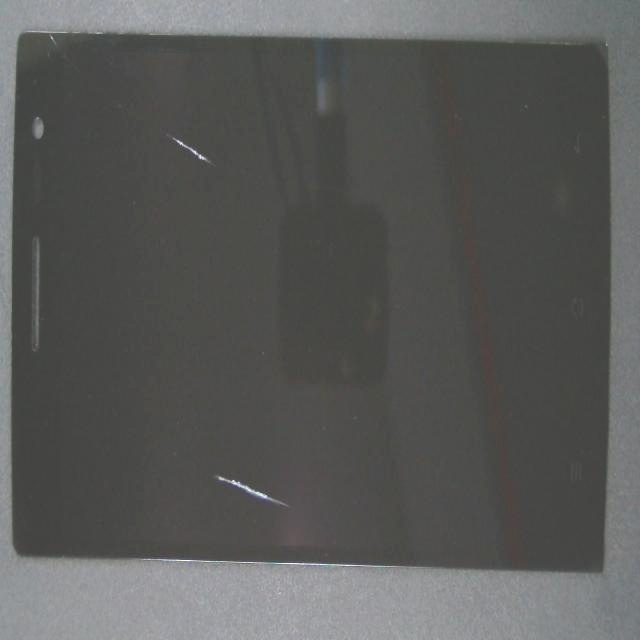scratch: (200, 277, 418, 640), (131, 101, 307, 219)
